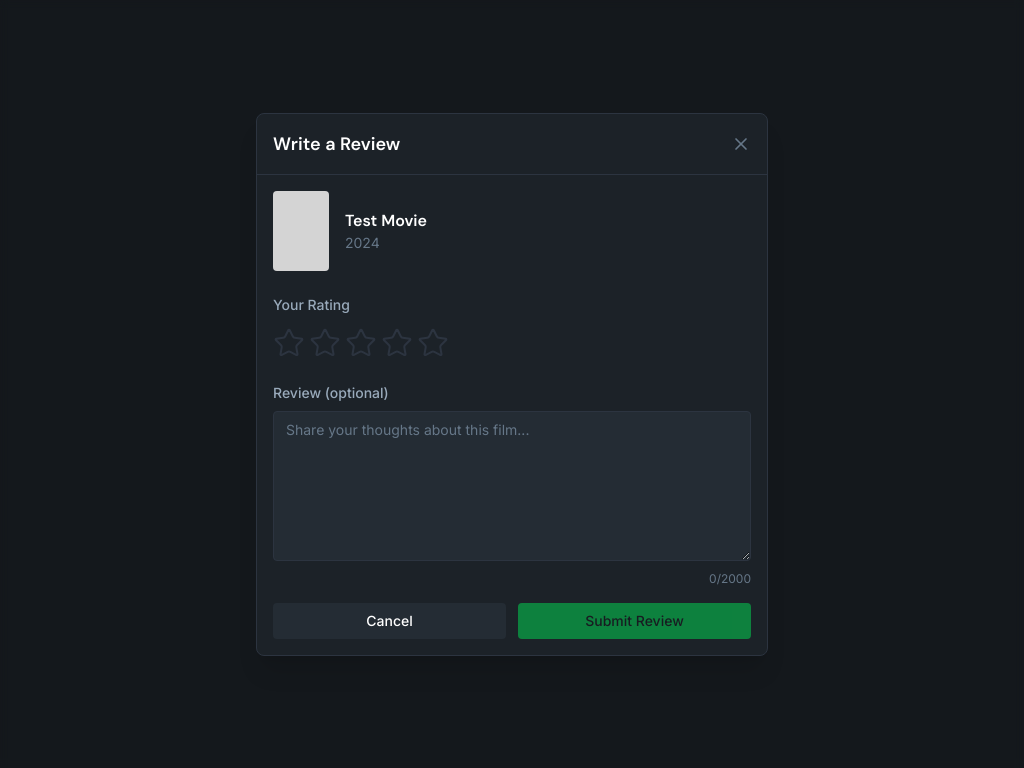
Scenario: ReviewForm › should show character count
Expected: the text "0/2000" is shown, [709, 570, 751, 586]
In the text box with placeholder "Share your thoughts about this film...": x=512, y=486 [273, 410, 751, 560], type "Hello"
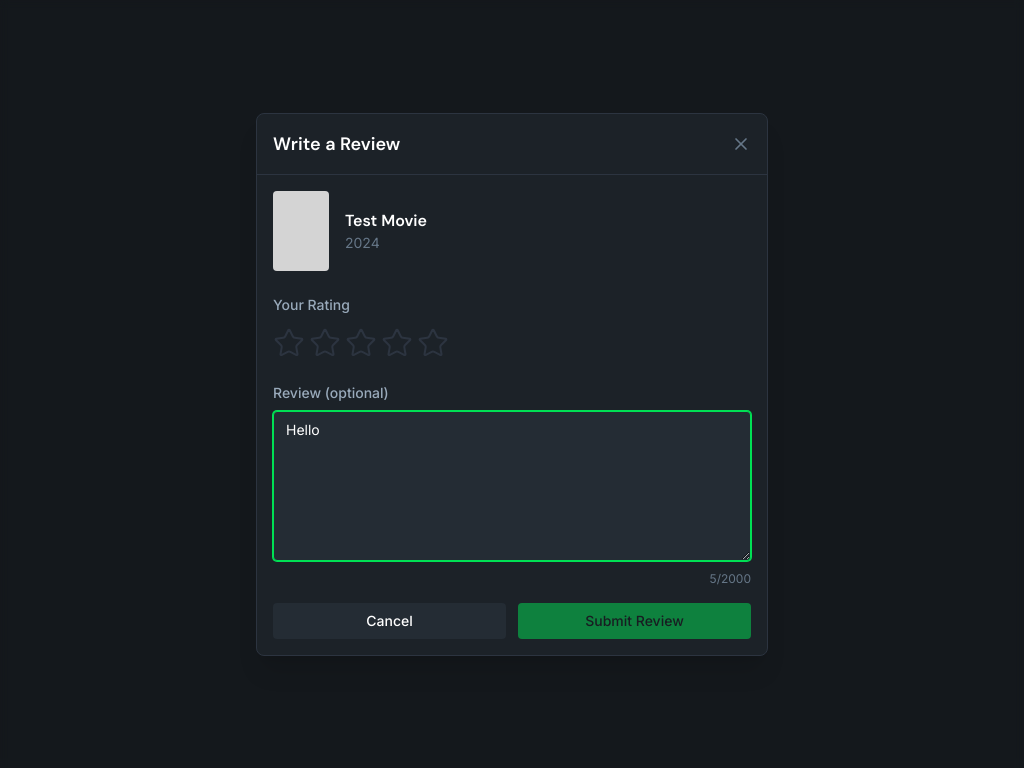
Expected: the text "5/2000" is shown, [710, 570, 751, 586]
